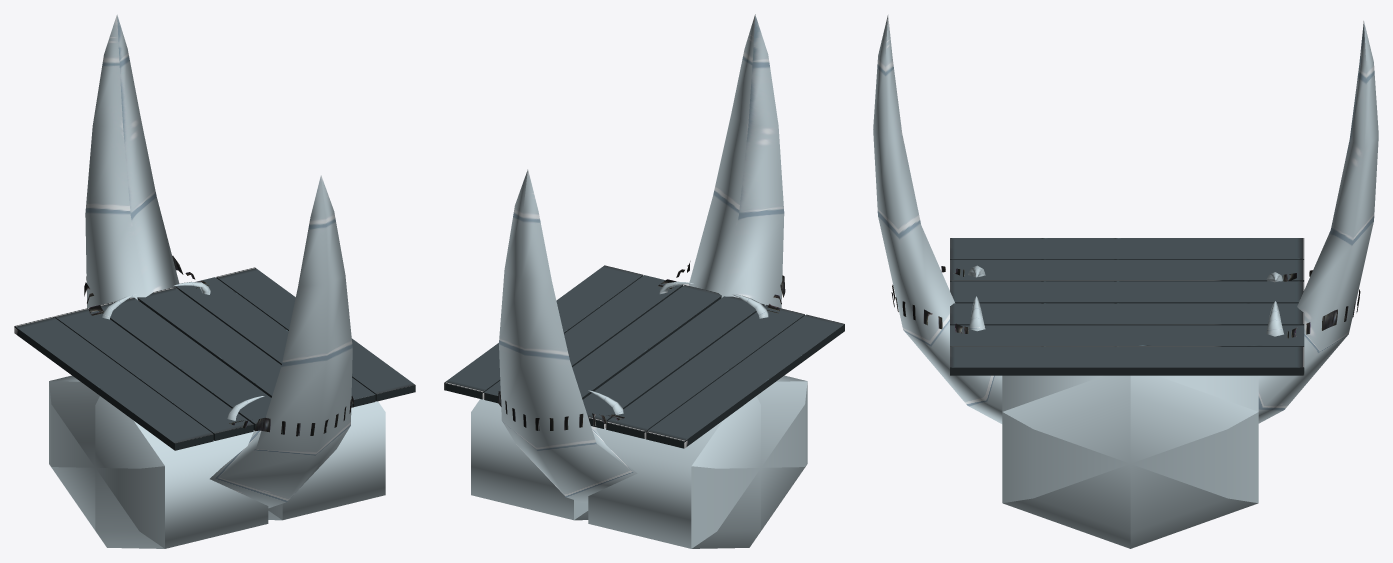
The model's file is New Good Bridge.fbx.
3 renders of one model, left to right at view 1: azimuth 30°, elevation 25°; view 2: azimuth 150°, elevation 25°; view 3: azimuth 270°, elevation 25°, orthographic. The views are drawn at different scales.
Parts seen in each view (by area): view 1: pCylinder2, bone3, bone4, pCube1, pCube2, pCylinder1, pCube3, pCube4, pCube6, pCube5, bone2; view 2: pCylinder2, bone4, bone3, pCube1, pCylinder1, pCube2, pCube3, pCube4, pCube6, pCube5, bone5; view 3: pCylinder1, bone3, bone4, pCube6, pCube3, pCube2, pCube1, pCube4, pCube5.
Boxes of the visible parts, box(x1,y1,x2,y2) form: pCylinder2: box(49, 375, 268, 548); bone3: box(210, 175, 352, 508); bone4: box(85, 14, 210, 319); pCube1: box(14, 316, 213, 450); pCube2: box(54, 307, 253, 440); pCylinder1: box(268, 401, 385, 520); pCube3: box(99, 297, 271, 431); pCube4: box(137, 287, 281, 397); pCube6: box(216, 267, 415, 401); pCube5: box(176, 277, 375, 407); bone2: box(229, 396, 353, 436); pCylinder2: box(588, 375, 807, 548); bone4: box(499, 169, 637, 502); bone3: box(659, 14, 784, 318); pCube1: box(645, 314, 844, 448); pCylinder1: box(471, 399, 588, 520); pCube2: box(606, 305, 804, 438); pCube3: box(582, 296, 764, 428); pCube4: box(572, 285, 721, 399); pCube6: box(444, 265, 643, 399); pCube5: box(484, 275, 683, 403); bone5: box(498, 391, 624, 430); pCylinder1: box(1002, 375, 1258, 548); bone3: box(873, 14, 1002, 423); bone4: box(1258, 21, 1378, 423); pCube6: box(950, 346, 1304, 375); pCube3: box(950, 281, 1304, 303); pCube2: box(950, 259, 1304, 281); pCube1: box(950, 238, 1304, 259); pCube4: box(950, 303, 1304, 325); pCube5: box(950, 325, 1304, 346).
Size of the model in its own units: 5.99 by 9.96 by 9.66.
